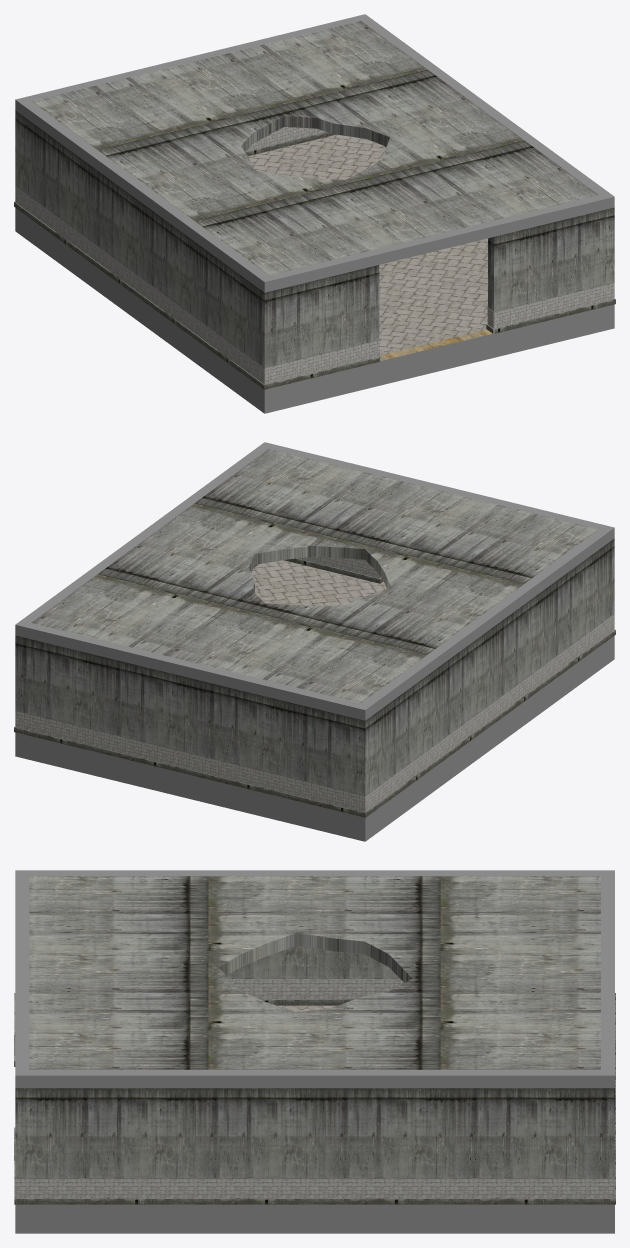
The model's file is metroStartingRoom.FBX.
3 renders of one model, top to bottom at view 1: azimuth 30°, elevation 25°; view 2: azimuth 150°, elevation 25°; view 3: azimuth 270°, elevation 25°, orthographic. The views are drawn at different scales.
Parts seen in each view (by area): view 1: Box040; view 2: Box040; view 3: Box040.
Boxes of the visible parts, left/top/right/bottom form: Box040: left=14, top=14, right=615, bottom=413; Box040: left=14, top=442, right=615, bottom=841; Box040: left=14, top=870, right=615, bottom=1233.
Size of the model in its own units: 344 by 123 by 425.
Materials: 10 (4 with a texture image).
